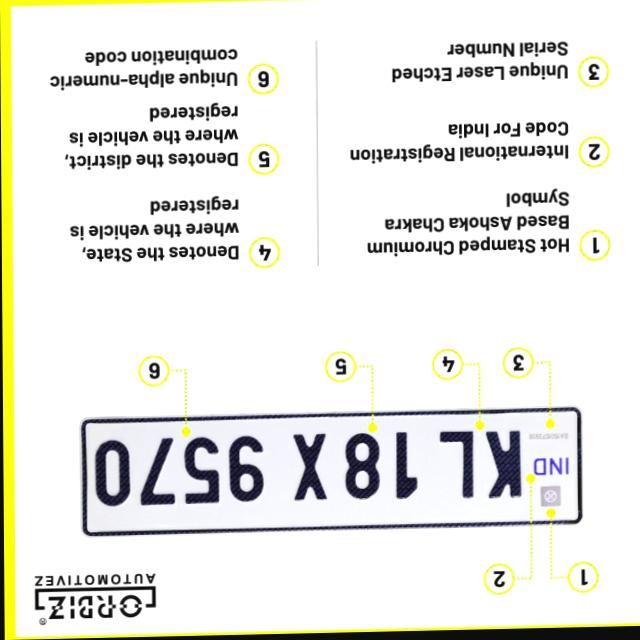0: (93, 442, 129, 505)
1: (389, 432, 418, 504)
5: (183, 437, 217, 504)
7: (137, 438, 178, 508)
8: (344, 434, 382, 502)
9: (226, 436, 264, 505)
k: (484, 430, 524, 501)
l: (436, 434, 475, 500)
x: (287, 432, 329, 503)
